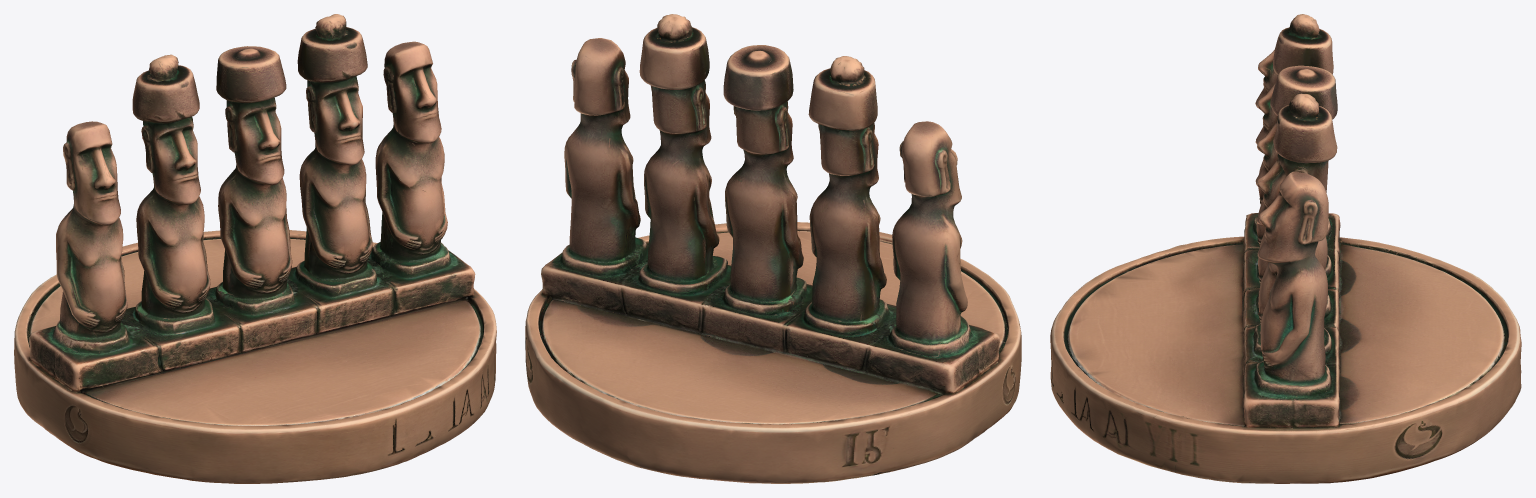
Rendered from easter_island_bronze.glb.
The picture shows the model from 3 angles, left to right: view 1: azimuth 30°, elevation 25°; view 2: azimuth 150°, elevation 25°; view 3: azimuth 270°, elevation 25°; orthographic projection. The views are drawn at different scales.
Parts seen in each view (by area): view 1: Mesh_0; view 2: Mesh_0; view 3: Mesh_0.
Boxes of the visible parts, x1,y1,x2,y2 form: Mesh_0: [14, 14, 496, 483]; Mesh_0: [525, 14, 1021, 483]; Mesh_0: [1050, 14, 1521, 483].
Bounding box in the file's own units: 1.9 × 1.49 × 1.91.
Materials: 1 (1 with a texture image).
